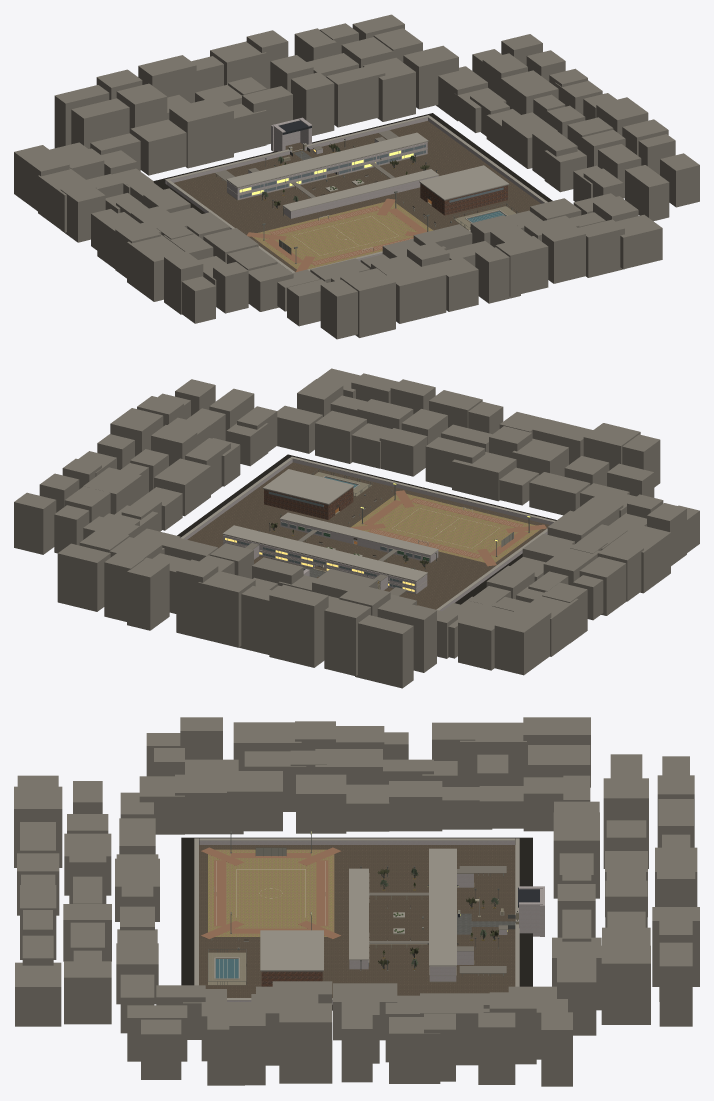
File: domino-high.glb
3 views of the same model, one above another, from view 1: azimuth 30°, elevation 25°; view 2: azimuth 150°, elevation 25°; view 3: azimuth 270°, elevation 25° (orthographic). The views are drawn at different scales.
Parts seen in each view (by area): view 1: bake:plain:plain:#837d72:1.00:0.00:None, bake:herringbone_pavement:paving:#f2e9d2, bake:plain:plain:#a09a8e:1.00:0.00:None, bake:leafy_grass:turf, bake:herringbone_pavement:paving:#f0e8d2, bake:painted_plaster_wall:render:#b8ad98, bake:plain:decal:#9c7358:1.00, bake:painted_plaster_wall:render:#cec3ad, bake:plain:plain:#24211d:1.00:0.00:None, bake:brick_wall_001:brick:#7a6a5b, bake:painted_plaster_wall:render:#c3b49a, bake:plain:plain:#6f7a7c:1.00:0.00:None (+2 smaller); view 2: bake:plain:plain:#837d72:1.00:0.00:None, bake:plain:plain:#a09a8e:1.00:0.00:None, bake:herringbone_pavement:paving:#f2e9d2, bake:leafy_grass:turf, bake:plain:decal:#9c7358:1.00, bake:painted_plaster_wall:render:#b8ad98, bake:herringbone_pavement:paving:#f0e8d2, bake:painted_plaster_wall:render:#cec3ad, bake:plain:plain:#24211d:1.00:0.00:None, bake:brick_wall_001:brick:#7a6a5b, bake:painted_plaster_wall:render:#c3b49a, bake:plain:plain:#7e786d:1.00:0.00:None (+1 smaller); view 3: bake:plain:plain:#837d72:1.00:0.00:None, bake:herringbone_pavement:paving:#f2e9d2, bake:plain:plain:#a09a8e:1.00:0.00:None, bake:leafy_grass:turf, bake:herringbone_pavement:paving:#f0e8d2, bake:plain:plain:#24211d:1.00:0.00:None, bake:plain:decal:#9c7358:1.00, bake:painted_plaster_wall:render:#b8ad98, bake:plain:plain:#7e786d:1.00:0.00:None, bake:concrete_wall_007:concrete:#9a948b, bake:brick_wall_001:brick:#7a6a5b.
Boxes of the visible parts, x1=… form: bake:plain:plain:#837d72:1.00:0.00:None: x1=14, y1=14, x2=699, y2=339; bake:herringbone_pavement:paving:#f2e9d2: x1=174, y1=121, x2=540, y2=271; bake:plain:plain:#a09a8e:1.00:0.00:None: x1=165, y1=115, x2=547, y2=272; bake:leafy_grass:turf: x1=253, y1=202, x2=432, y2=269; bake:herringbone_pavement:paving:#f0e8d2: x1=238, y1=154, x2=451, y2=218; bake:painted_plaster_wall:render:#b8ad98: x1=165, y1=117, x2=543, y2=271; bake:plain:decal:#9c7358:1.00: x1=247, y1=198, x2=426, y2=271; bake:painted_plaster_wall:render:#cec3ad: x1=227, y1=142, x2=427, y2=199; bake:plain:plain:#24211d:1.00:0.00:None: x1=154, y1=113, x2=552, y2=213; bake:brick_wall_001:brick:#7a6a5b: x1=420, y1=183, x2=507, y2=215; bake:painted_plaster_wall:render:#c3b49a: x1=283, y1=148, x2=438, y2=218; bake:plain:plain:#6f7a7c:1.00:0.00:None: x1=239, y1=144, x2=503, y2=202; bake:plain:plain:#837d72:1.00:0.00:None: x1=14, y1=368, x2=699, y2=688; bake:plain:plain:#a09a8e:1.00:0.00:None: x1=181, y1=456, x2=555, y2=610; bake:herringbone_pavement:paving:#f2e9d2: x1=187, y1=462, x2=549, y2=609; bake:leafy_grass:turf: x1=351, y1=494, x2=540, y2=562; bake:plain:decal:#9c7358:1.00: x1=350, y1=490, x2=546, y2=566; bake:painted_plaster_wall:render:#b8ad98: x1=184, y1=459, x2=553, y2=610; bake:herringbone_pavement:paving:#f0e8d2: x1=249, y1=521, x2=451, y2=585; bake:painted_plaster_wall:render:#cec3ad: x1=223, y1=535, x2=427, y2=593; bake:plain:plain:#24211d:1.00:0.00:None: x1=177, y1=454, x2=556, y2=604; bake:brick_wall_001:brick:#7a6a5b: x1=264, y1=487, x2=353, y2=519; bake:painted_plaster_wall:render:#c3b49a: x1=280, y1=519, x2=438, y2=566; bake:plain:plain:#7e786d:1.00:0.00:None: x1=223, y1=486, x2=529, y2=595; bake:plain:plain:#837d72:1.00:0.00:None: x1=14, y1=717, x2=699, y2=1086; bake:herringbone_pavement:paving:#f2e9d2: x1=199, y1=845, x2=515, y2=997; bake:plain:plain:#a09a8e:1.00:0.00:None: x1=194, y1=838, x2=519, y2=1000; bake:leafy_grass:turf: x1=208, y1=849, x2=334, y2=936; bake:herringbone_pavement:paving:#f0e8d2: x1=368, y1=866, x2=429, y2=982; bake:plain:plain:#24211d:1.00:0.00:None: x1=181, y1=837, x2=532, y2=1010; bake:plain:decal:#9c7358:1.00: x1=201, y1=847, x2=340, y2=938; bake:painted_plaster_wall:render:#b8ad98: x1=199, y1=840, x2=544, y2=1004; bake:plain:plain:#7e786d:1.00:0.00:None: x1=230, y1=852, x2=507, y2=973; bake:concrete_wall_007:concrete:#9a948b: x1=208, y1=883, x2=518, y2=985; bake:brick_wall_001:brick:#7a6a5b: x1=261, y1=971, x2=322, y2=986.
Bounding box in the file's own units: 389 × 46.31 × 359.
Materials: 57 (34 with a texture image).
